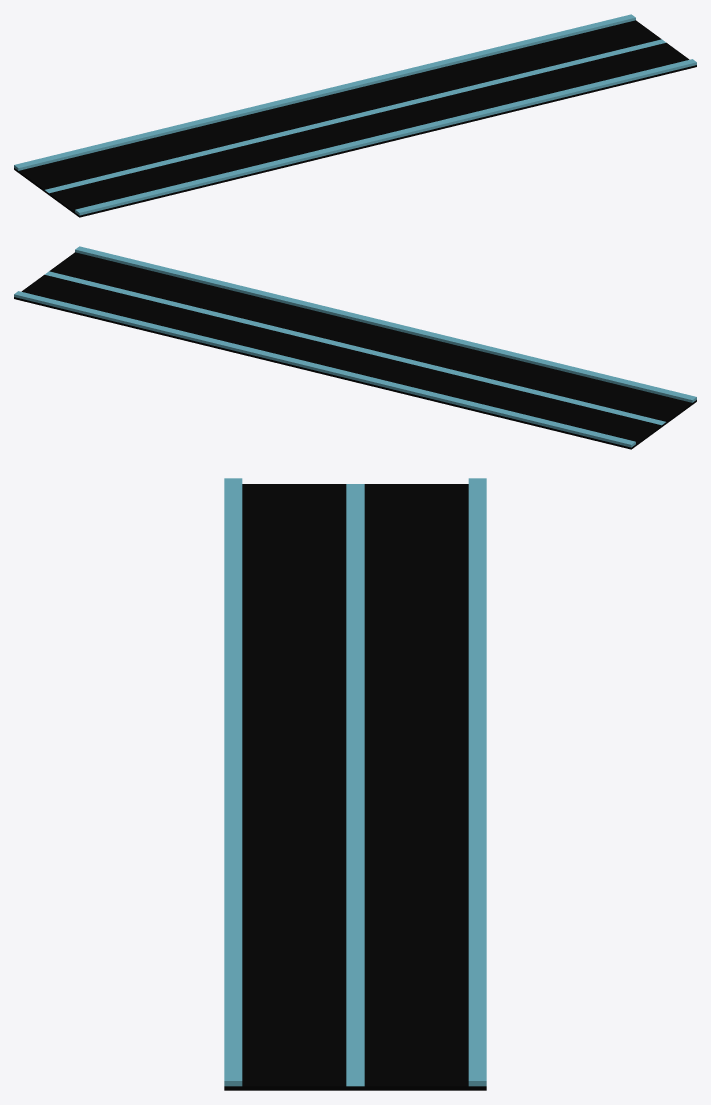
The model's file is yol.fbx.
The picture shows the model from 3 angles, top to bottom: view 1: azimuth 30°, elevation 25°; view 2: azimuth 150°, elevation 25°; view 3: azimuth 270°, elevation 25°; orthographic projection. The views are drawn at different scales.
Parts seen in each view (by area): view 1: yol; view 2: yol; view 3: yol.
Part boxes in pixels (x1,y1,x2,y2): yol: (14,14,696,217); yol: (14,246,696,449); yol: (224,478,486,1090).
Bounding box in the file's own units: 3778 × 27.67 × 695.
